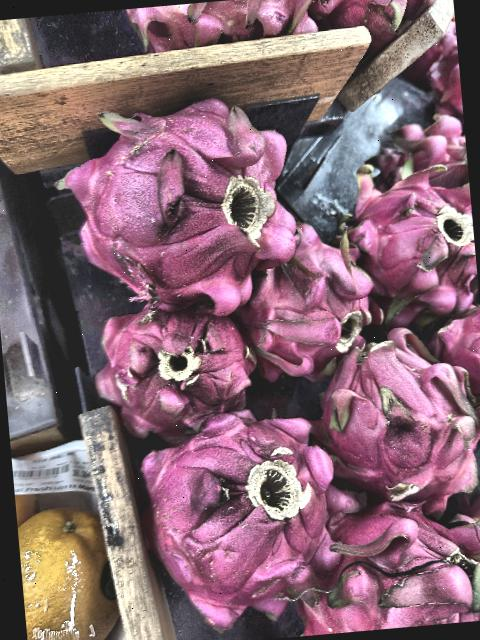buah-naga-matang: (43, 75, 303, 318), (116, 406, 352, 614), (305, 325, 480, 511), (296, 488, 480, 635), (91, 284, 264, 436), (228, 215, 372, 368), (345, 158, 480, 317)
